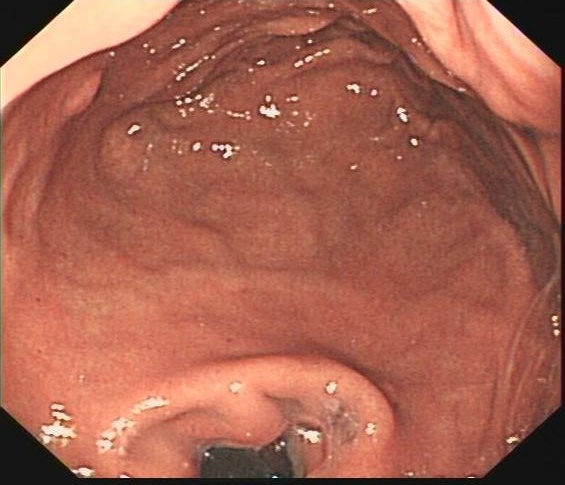Polyp: (55, 63, 112, 125)
